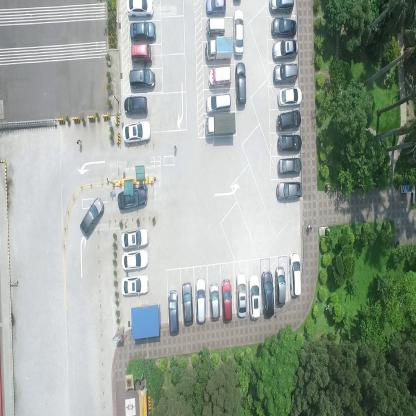car: (79, 196, 104, 237), (204, 110, 236, 138), (121, 118, 151, 145), (116, 184, 147, 210), (121, 226, 150, 251), (120, 273, 149, 298), (204, 35, 232, 60), (261, 269, 275, 318), (248, 274, 262, 320), (120, 249, 149, 271), (128, 66, 154, 90), (289, 250, 302, 298), (194, 276, 207, 324), (271, 38, 299, 60), (276, 179, 302, 202), (167, 288, 179, 336), (207, 65, 232, 88), (206, 92, 232, 114), (130, 20, 156, 42), (221, 277, 233, 323), (234, 59, 246, 105), (276, 108, 300, 131), (232, 9, 244, 55), (273, 61, 298, 83), (277, 84, 302, 106), (278, 154, 302, 176), (123, 94, 147, 116), (236, 270, 247, 318), (181, 282, 193, 326), (270, 16, 297, 35), (275, 266, 287, 308), (277, 132, 303, 151), (127, 0, 154, 18), (209, 281, 221, 321), (130, 41, 151, 62), (206, 17, 226, 38), (269, 0, 296, 15), (206, 0, 226, 15)
